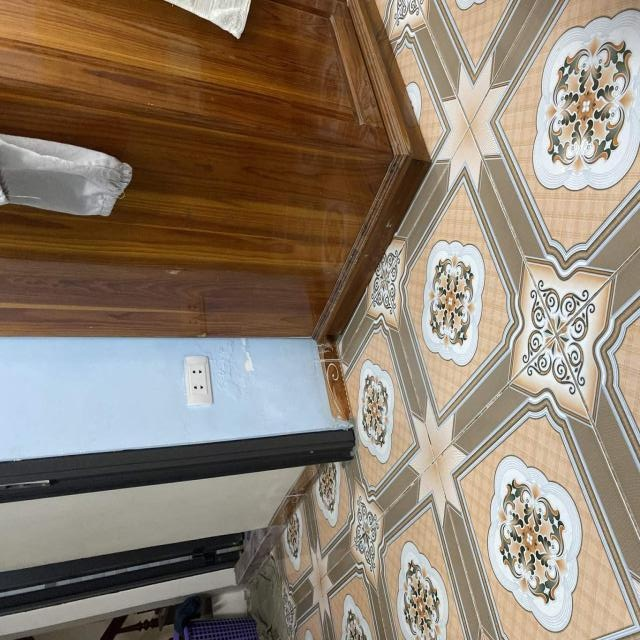outlet: (183, 356, 213, 406)
